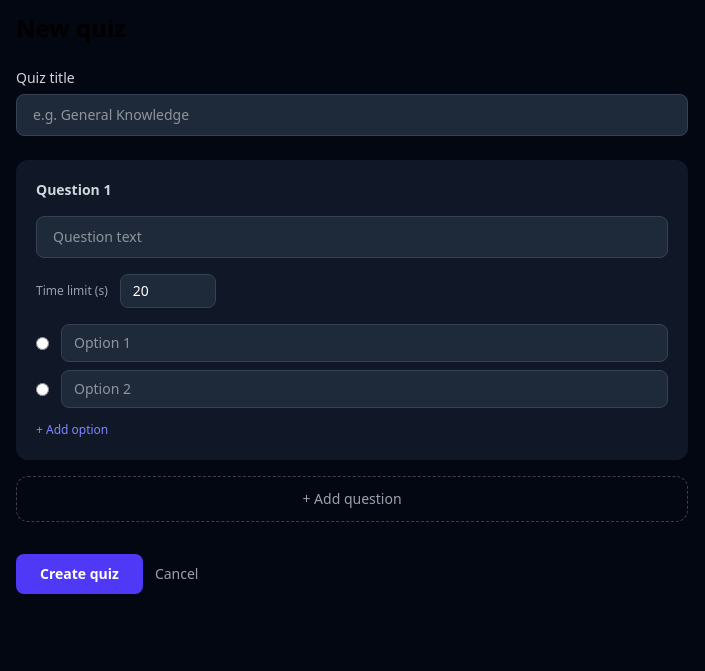
it: QuizFormPage — create mode › can add an option up to 4
The width and height of the screenshot is (705, 671).
Expected: the number of fields with placeholder "Option 1" is 2, [61,324,668,362]; [61,370,668,408]
Click the button "+ Add option": (72, 430) [36,422,108,438]
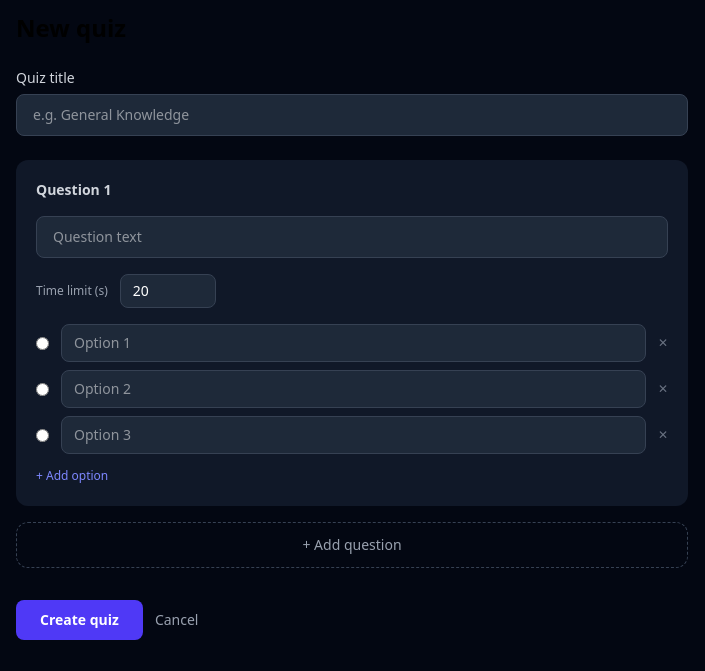
Now the number of fields with placeholder "Option 1" is 3, box [61,324,646,362]; [61,370,646,408]; [61,416,646,454]
Click the button "+ Add option": (72, 476) [36,468,108,484]
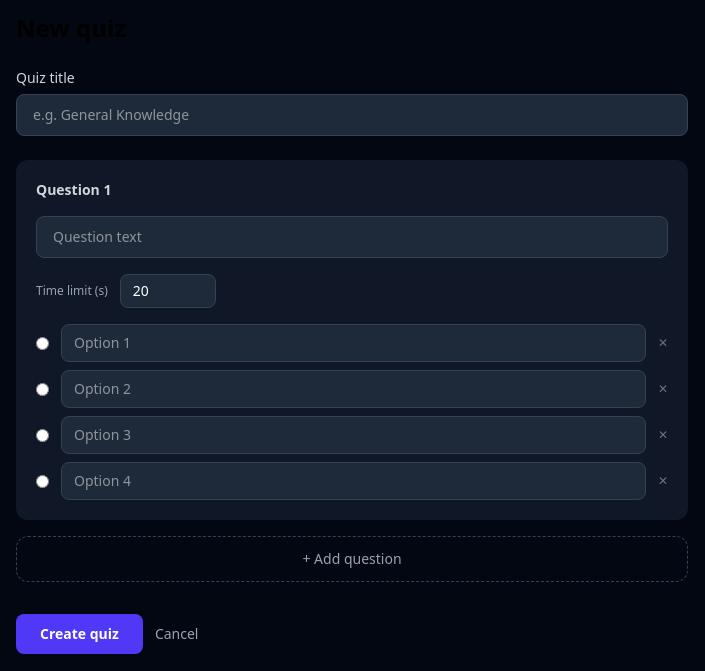
Now the number of fields with placeholder "Option 1" is 4, box [61,324,646,362]; [61,370,646,408]; [61,416,646,454]; [61,462,646,500]
Now the button "Add option" is gone
